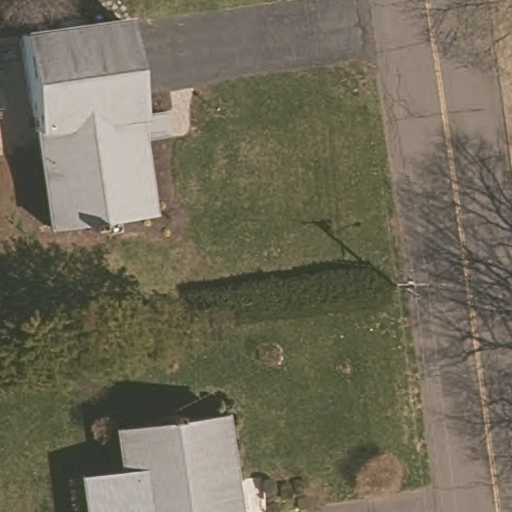DT: (395, 278, 430, 296)
